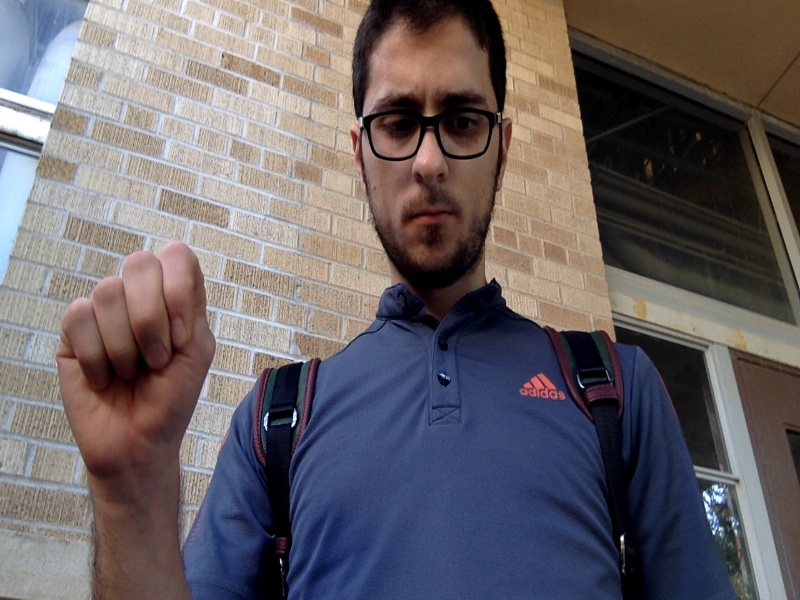0-hand: (60, 244, 216, 474)
